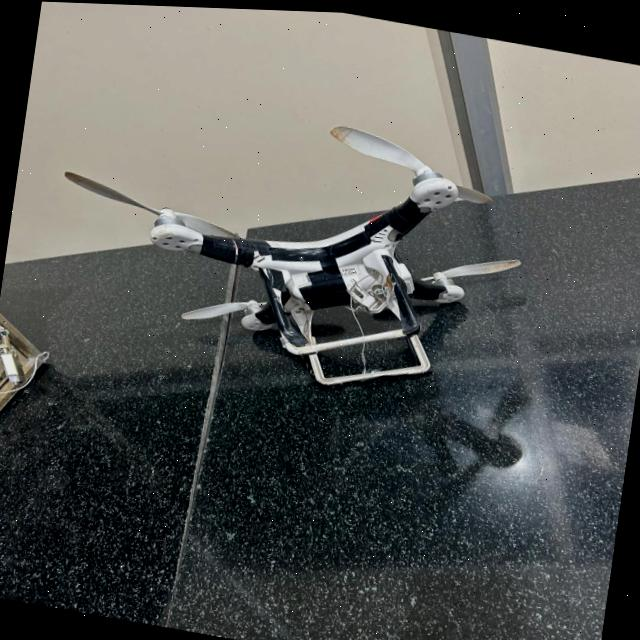drone: (16, 62, 546, 450)
